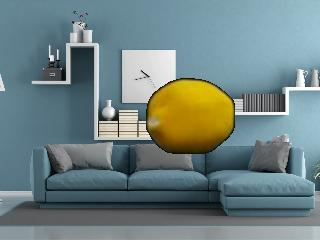lemon: (147, 80, 234, 154)
